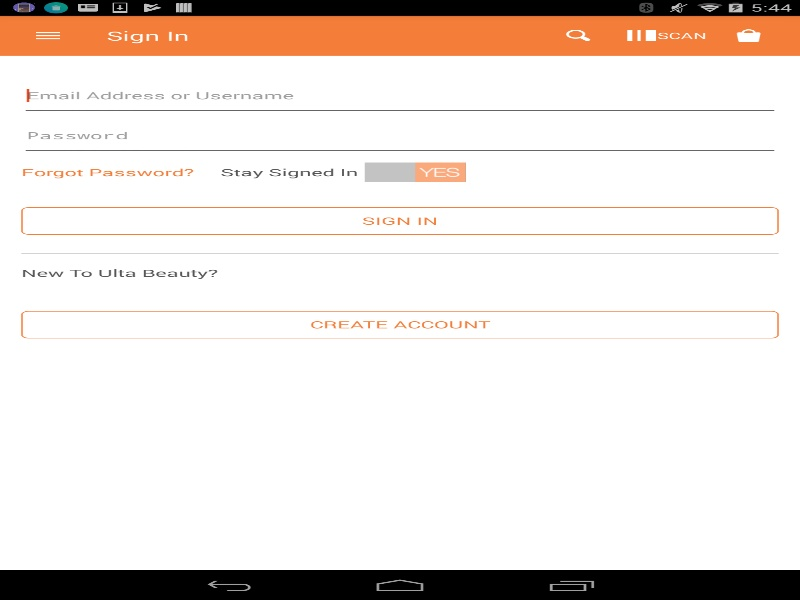Button: (21, 310, 778, 338), (21, 207, 778, 234), (10, 15, 85, 55)
Input: (21, 73, 778, 113), (21, 113, 778, 153)
